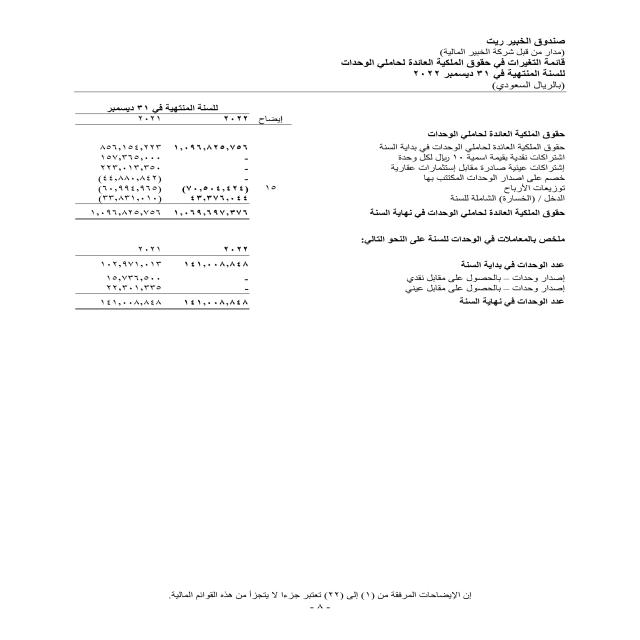financial_sheets: (331, 57, 568, 69)
table: (31, 104, 291, 340)
